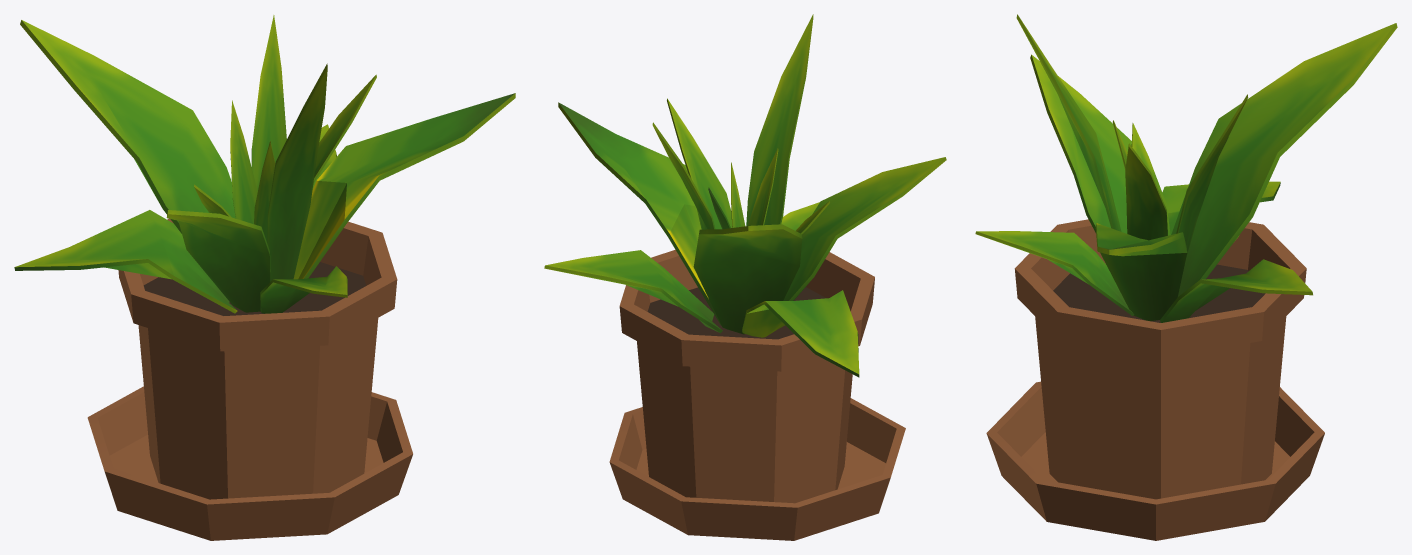
Rendered from small_plant.glb.
3 renders of one model, left to right at view 1: azimuth 30°, elevation 25°; view 2: azimuth 150°, elevation 25°; view 3: azimuth 270°, elevation 25°, orthographic. The views are drawn at different scales.
Parts seen in each view (by area): view 1: Circle_1, Plane.002_0; view 2: Circle_1, Plane.002_0; view 3: Circle_1, Plane.002_0.
Boxes of the visible parts, box(x1,y1,x2,y2) form: Circle_1: box(87, 218, 412, 540); Plane.002_0: box(14, 15, 515, 313); Circle_1: box(609, 249, 905, 540); Plane.002_0: box(544, 14, 946, 377); Circle_1: box(986, 219, 1324, 540); Plane.002_0: box(975, 14, 1397, 322).
Bounding box in the file's own units: 3.13 × 3.33 × 2.74.
Materials: 3 (1 with a texture image).
